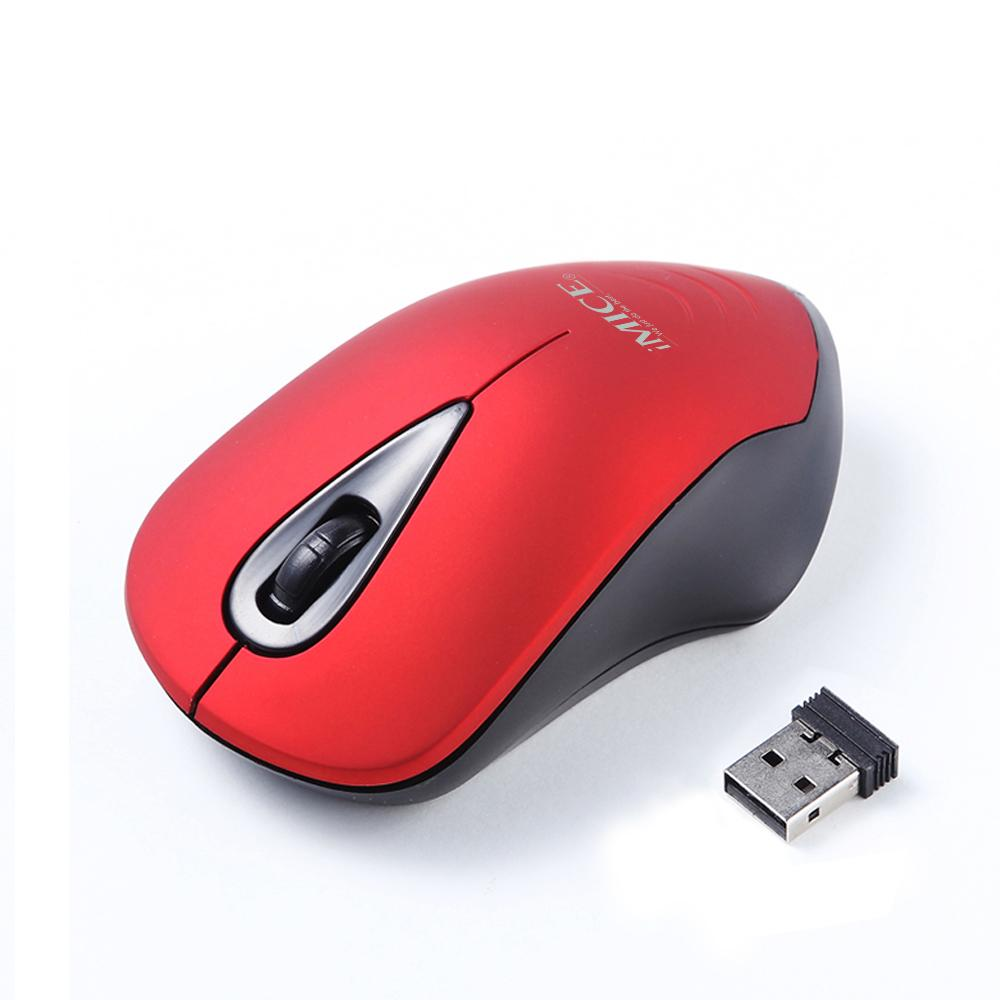computer mouse: (123, 262, 846, 810)
